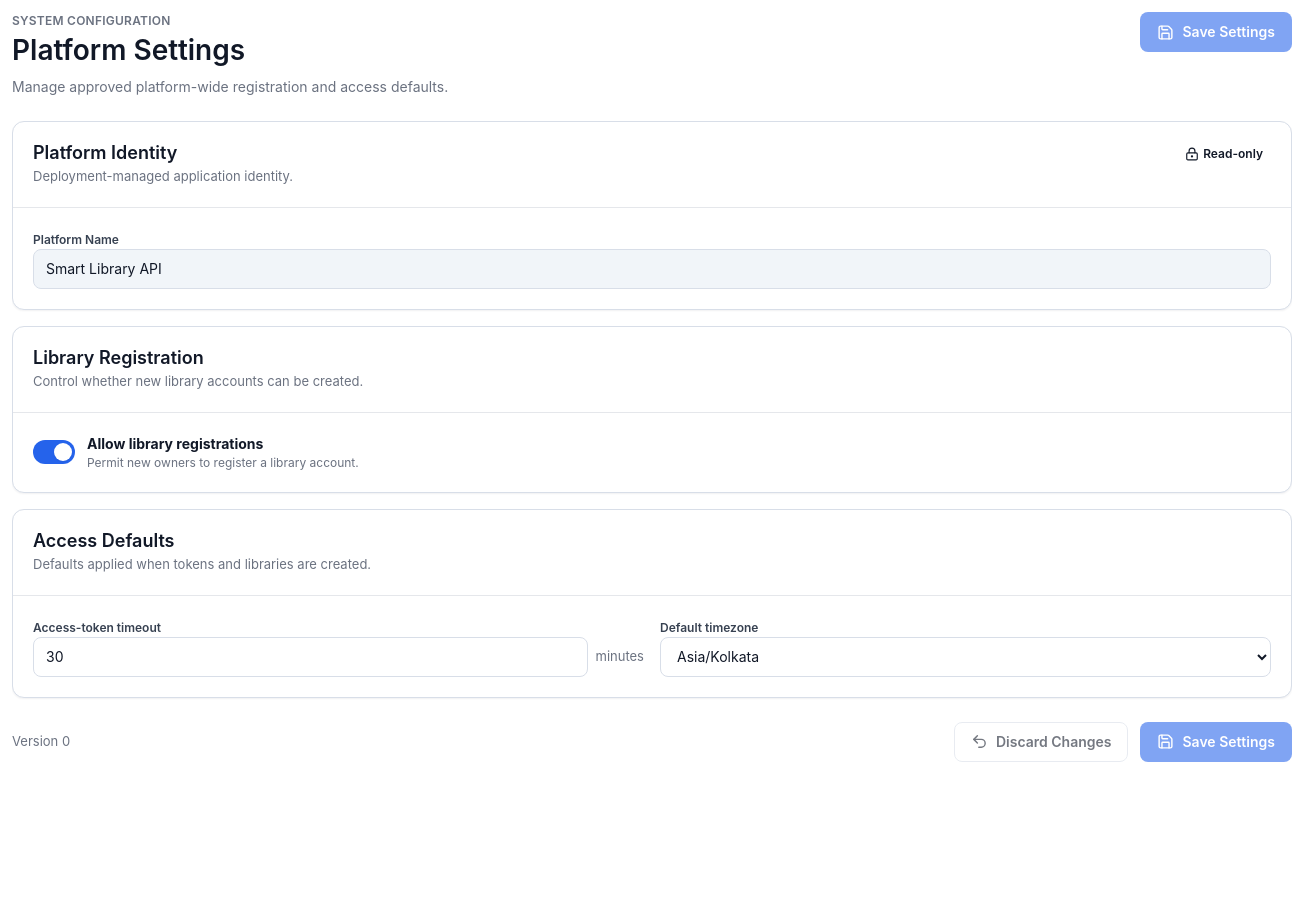
Scenario: Super Admin Platform Settings › renders only known controls and supports dirty reset state
Expected: the field labelled "Platform Name" holds "Smart Library API", [33,249,1271,289]
Replace the text in the number field with id "session-timeout" with "90" at (310, 657), box [33,637,588,677]
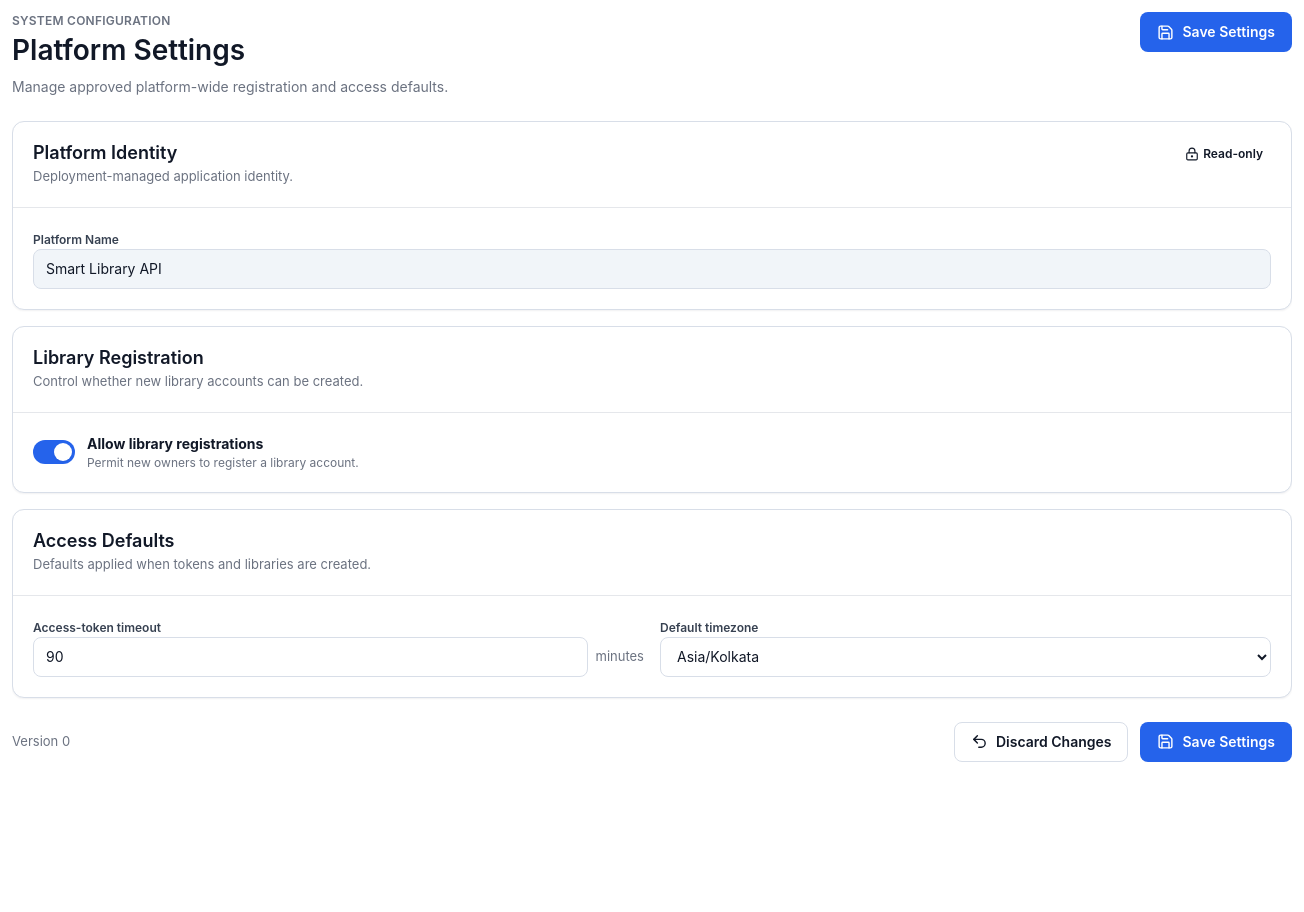
Result: the button "Discard Changes" is enabled
Click the button "Discard Changes".
click(1041, 742)  # box [954,722,1128,762]
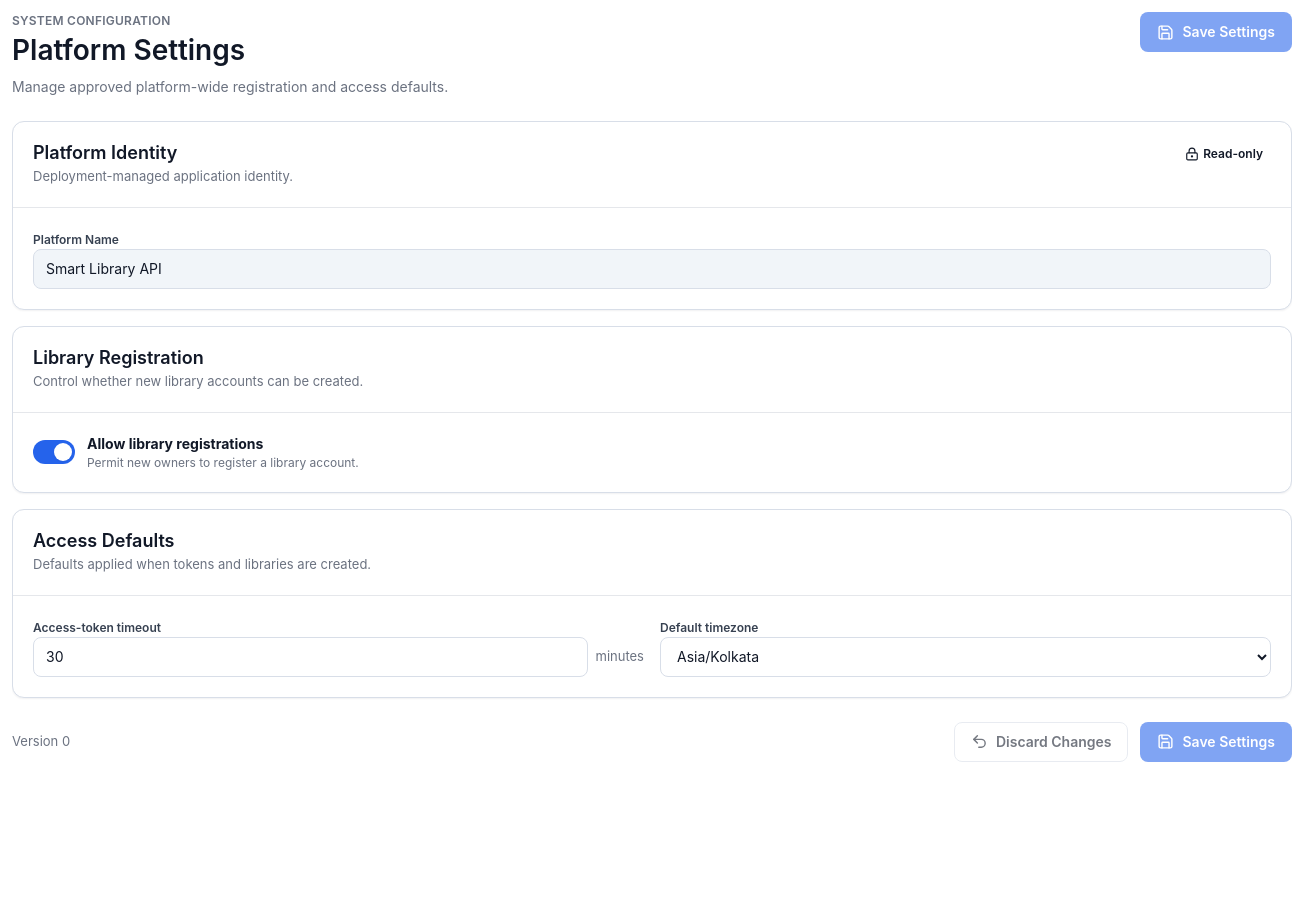
Result: the number field with id "session-timeout" holds "30" at [33,637,588,677]
